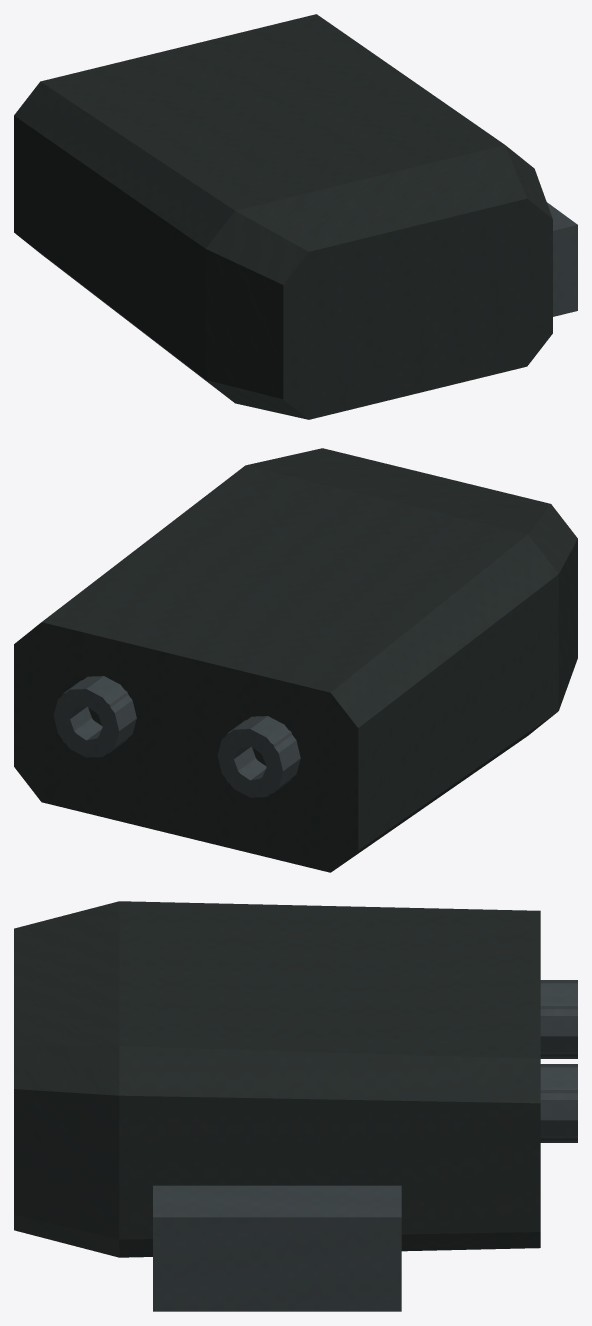
The model's file is laser_dual.glb.
3 views of the same model, one above another, from view 1: azimuth 30°, elevation 25°; view 2: azimuth 150°, elevation 25°; view 3: azimuth 270°, elevation 25° (orthographic). The views are drawn at different scales.
Visible parts, largest first — view 1: laser_dual_asymmetric_emitter_housing, laser_dual_external_emitter_rim; view 2: laser_dual_asymmetric_emitter_housing, laser_dual_external_emitter_rim, laser_dual_external_emitter_rim.002; view 3: laser_dual_asymmetric_emitter_housing, laser_dual_external_emitter_rim, laser_dual_external_emitter_rim.002.
Part boxes in pixels (bbox=[...]): laser_dual_asymmetric_emitter_housing: bbox=[14, 14, 552, 419]; laser_dual_external_emitter_rim: bbox=[547, 202, 577, 316]; laser_dual_asymmetric_emitter_housing: bbox=[14, 448, 577, 872]; laser_dual_external_emitter_rim: bbox=[53, 676, 300, 797]; laser_dual_external_emitter_rim.002: bbox=[54, 680, 292, 797]; laser_dual_asymmetric_emitter_housing: bbox=[14, 901, 540, 1257]; laser_dual_external_emitter_rim: bbox=[153, 980, 577, 1311]; laser_dual_external_emitter_rim.002: bbox=[540, 1003, 577, 1140].
Size of the model in its own units: 0.099 by 0.0485 by 0.1135.
2 materials, 2 textured.
